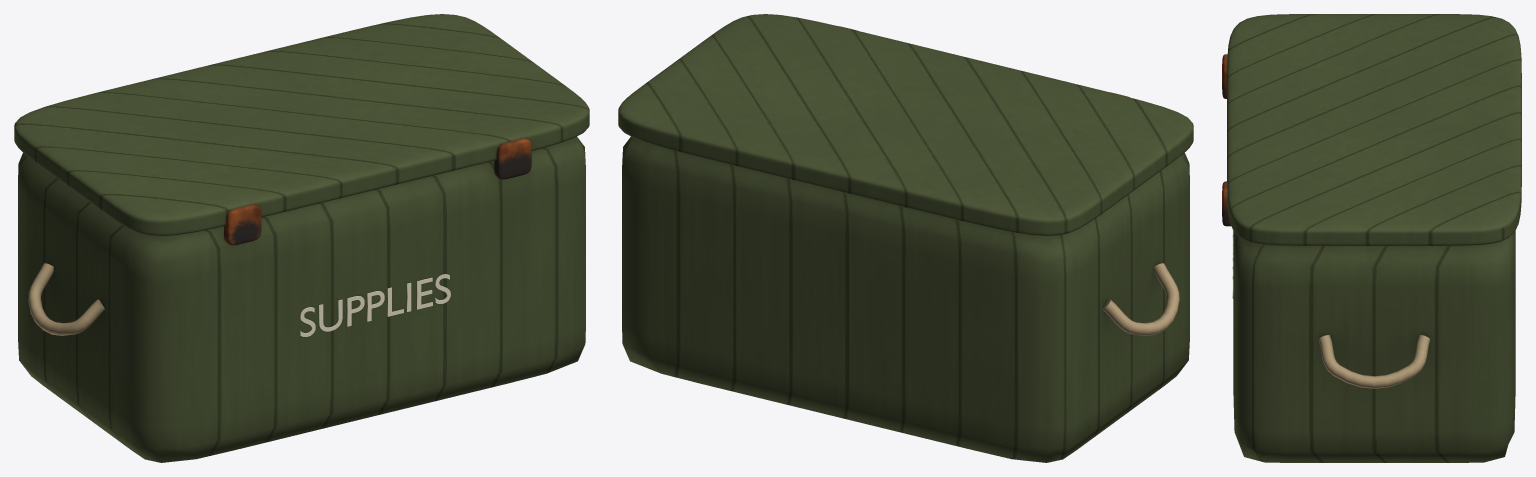
The model's file is olive.glb.
3 views of the same model, side by side, from view 1: azimuth 30°, elevation 25°; view 2: azimuth 150°, elevation 25°; view 3: azimuth 270°, elevation 25° (orthographic). The views are drawn at different scales.
Visible parts, largest first — view 1: crate_olive, iron, stencil_paint, rope; view 2: crate_olive, rope; view 3: crate_olive, rope, iron.
Boxes of the visible parts, bbox=[...] form: crate_olive: bbox=[14, 14, 589, 462]; iron: bbox=[224, 138, 531, 245]; stencil_paint: bbox=[300, 274, 450, 336]; rope: bbox=[28, 263, 104, 335]; crate_olive: bbox=[618, 14, 1193, 462]; rope: bbox=[1103, 263, 1179, 335]; crate_olive: bbox=[1227, 14, 1521, 462]; rope: bbox=[1318, 335, 1430, 388]; iron: bbox=[1222, 54, 1230, 226].
Bounding box in the file's own units: 0.9275 × 0.438 × 0.478.
4 materials, 3 textured.
